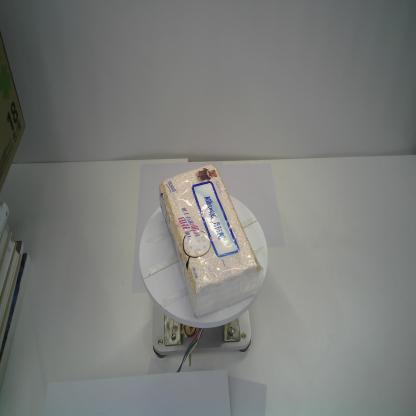Tissue: (158, 163, 263, 319)
